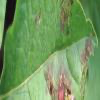Potato leaf late blight: (1, 2, 99, 99)
